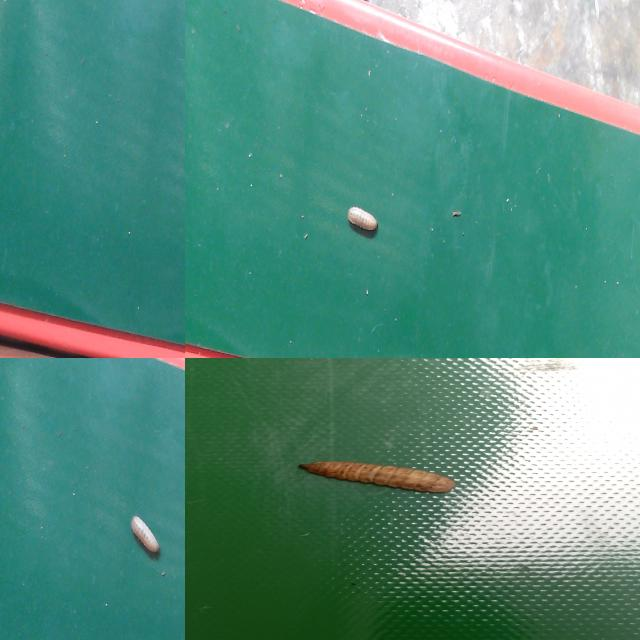Maggot: (299, 462, 457, 497), (130, 516, 162, 559), (348, 208, 377, 233)
